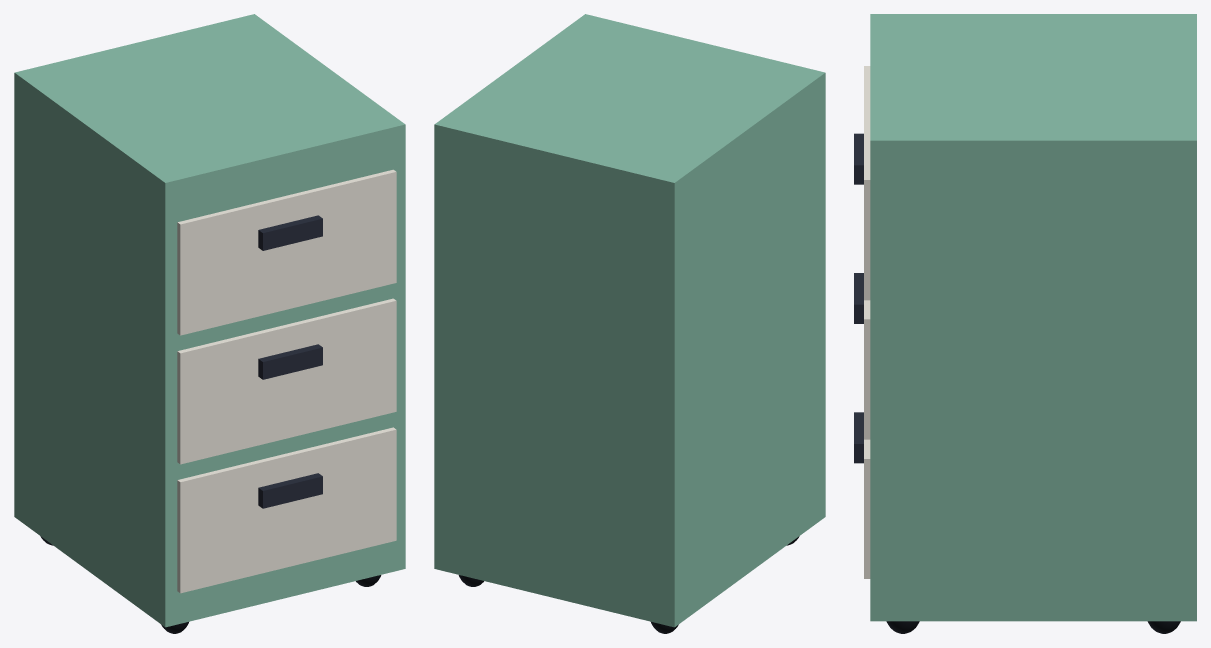
Rendered from drawer-cart.glb.
3 views of the same model, side by side, from view 1: azimuth 30°, elevation 25°; view 2: azimuth 150°, elevation 25°; view 3: azimuth 270°, elevation 25° (orthographic). The views are drawn at different scales.
Parts seen in each view (by area): view 1: drawer-cart; view 2: drawer-cart; view 3: drawer-cart.
Boxes of the visible parts, x1,y1,x2,y2 form: drawer-cart: (14, 14, 405, 633); drawer-cart: (434, 14, 825, 633); drawer-cart: (854, 14, 1196, 633).
Size of the model in its own units: 35 by 65 by 40.
